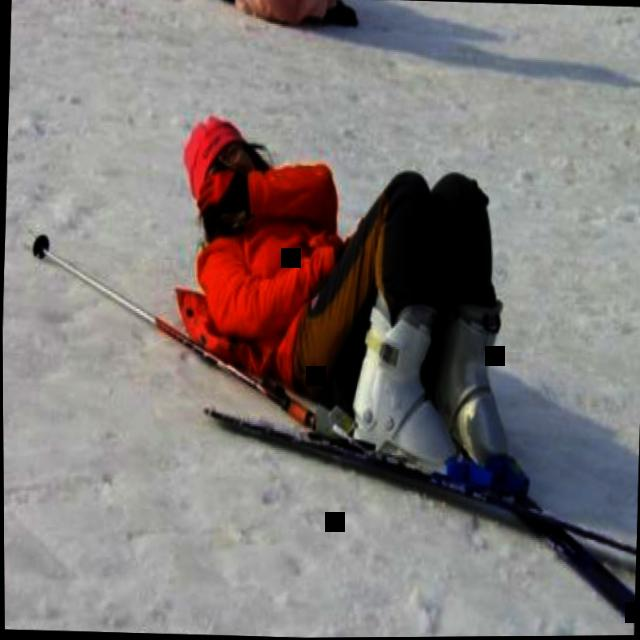Fall-Detected: (156, 73, 550, 505)
